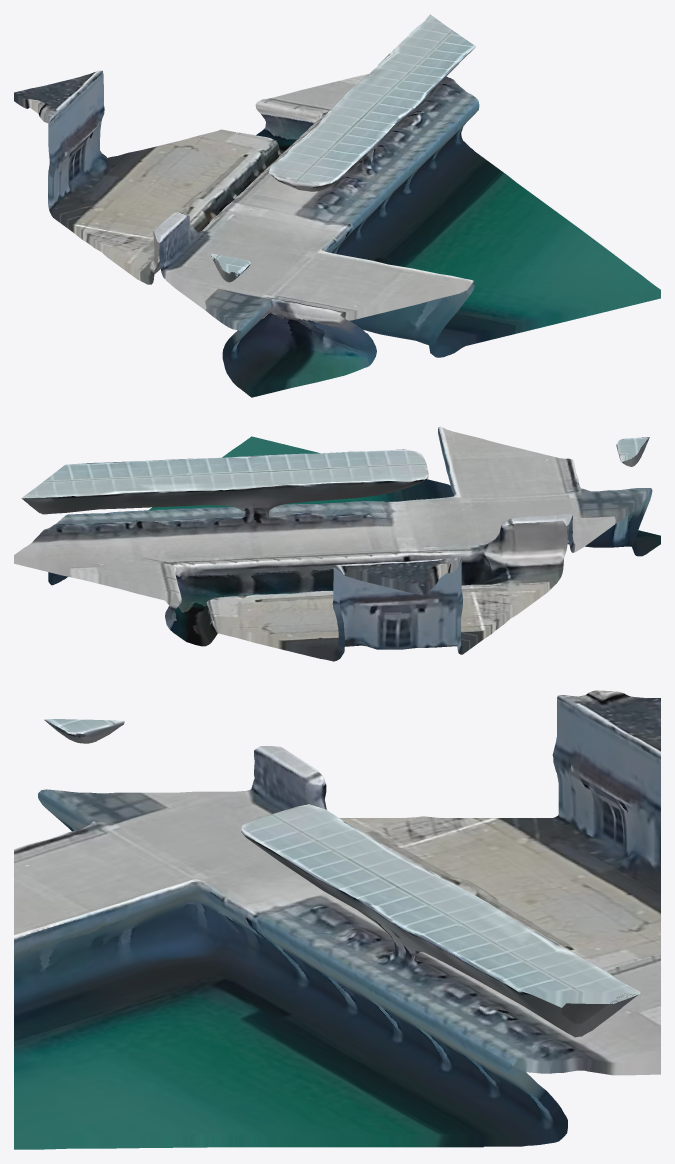
The model's file is z20-167795-405224-h0-yup-uvflip-v3-world.glb.
3 renders of one model, top to bottom at view 1: azimuth 30°, elevation 25°; view 2: azimuth 150°, elevation 25°; view 3: azimuth 270°, elevation 25°, orthographic. The views are drawn at different scales.
Bounding box in the file's own units: 30.16 × 10.08 × 30.32.
Materials: 1 (1 with a texture image).
